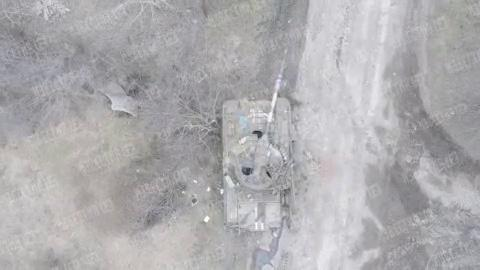tank: (219, 62, 295, 234)
